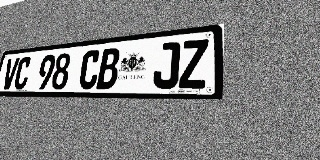8: (50, 52, 72, 89)
9: (36, 54, 57, 89)
B: (96, 47, 121, 89)
C: (78, 49, 101, 89), (13, 56, 32, 90)
J: (152, 41, 181, 89)
V: (1, 58, 20, 90)
Z: (179, 39, 209, 88)
